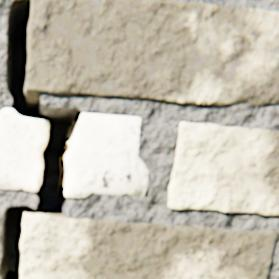brick: (24, 0, 278, 107), (20, 214, 276, 278), (167, 123, 278, 216)
broken_brick: (65, 114, 148, 198), (0, 109, 48, 192)
crack: (0, 0, 78, 278)
